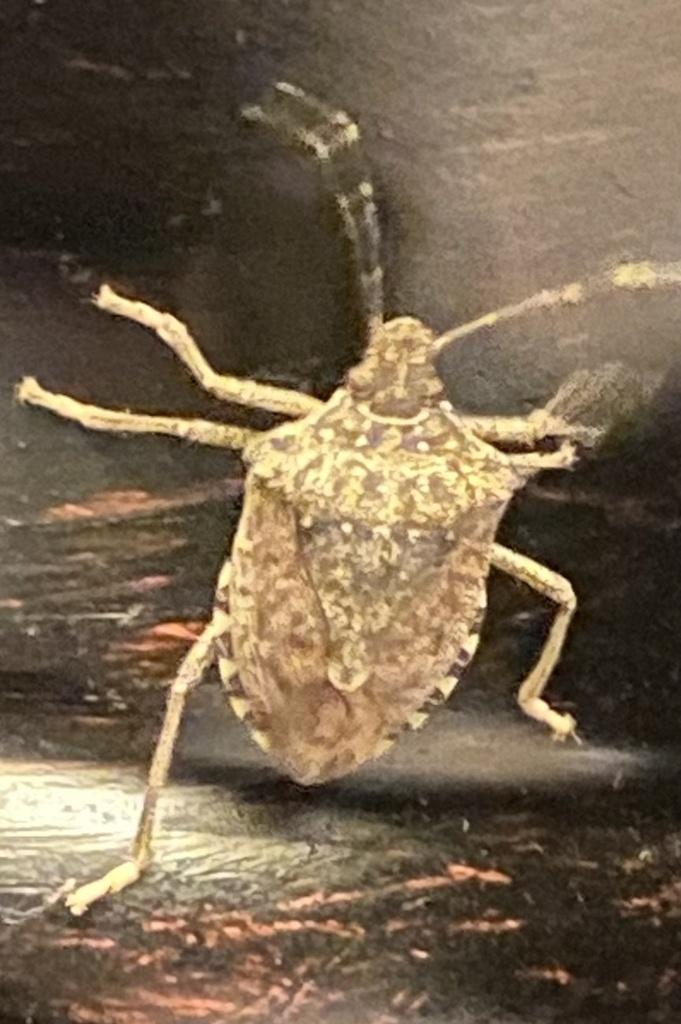stink_bugs: (0, 64, 681, 985)
